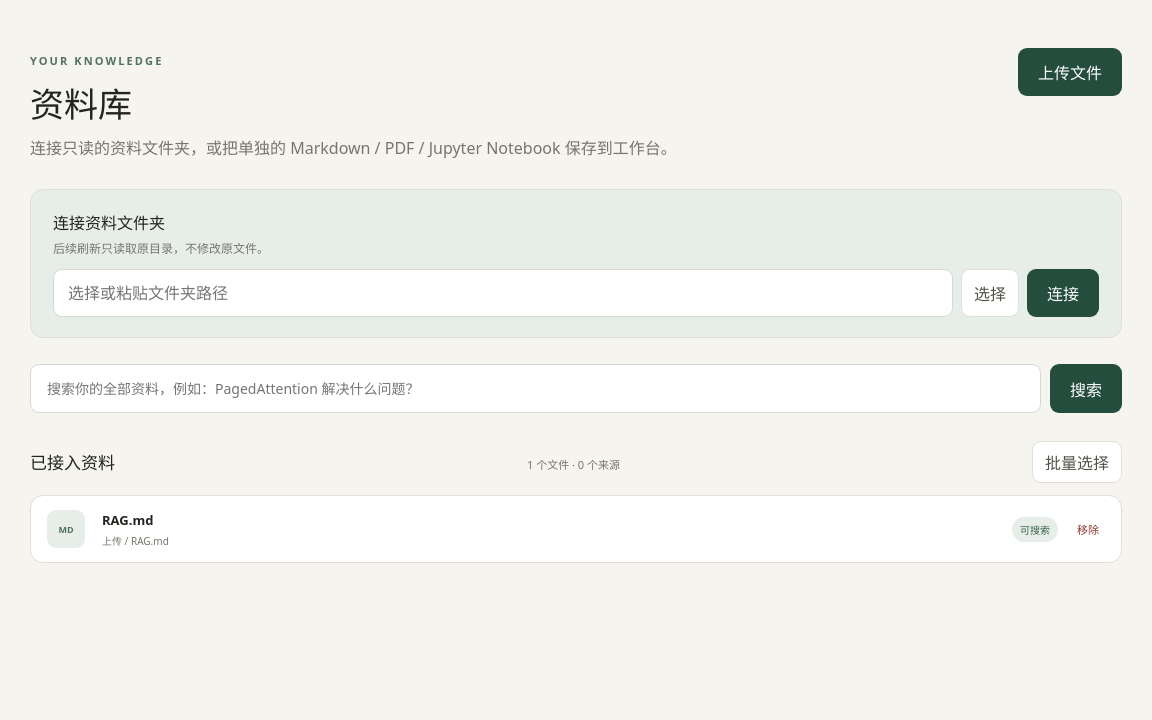
it: LibraryPage 的批量移除 › 勾选上传来源的资料时，确认框不提「暂时移除」这句
Click the button "批量选择" at (1077, 462), box [1032,441,1122,483]
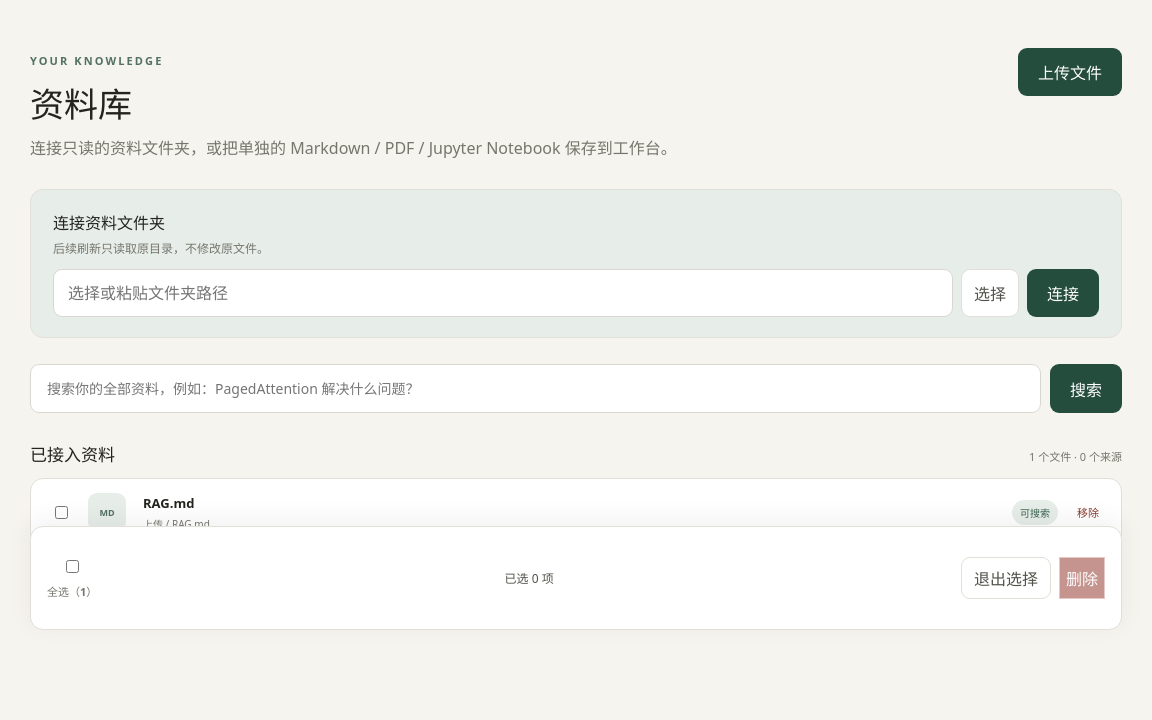
Click the 1st checkbox at (62, 512), box [55,506,68,518]
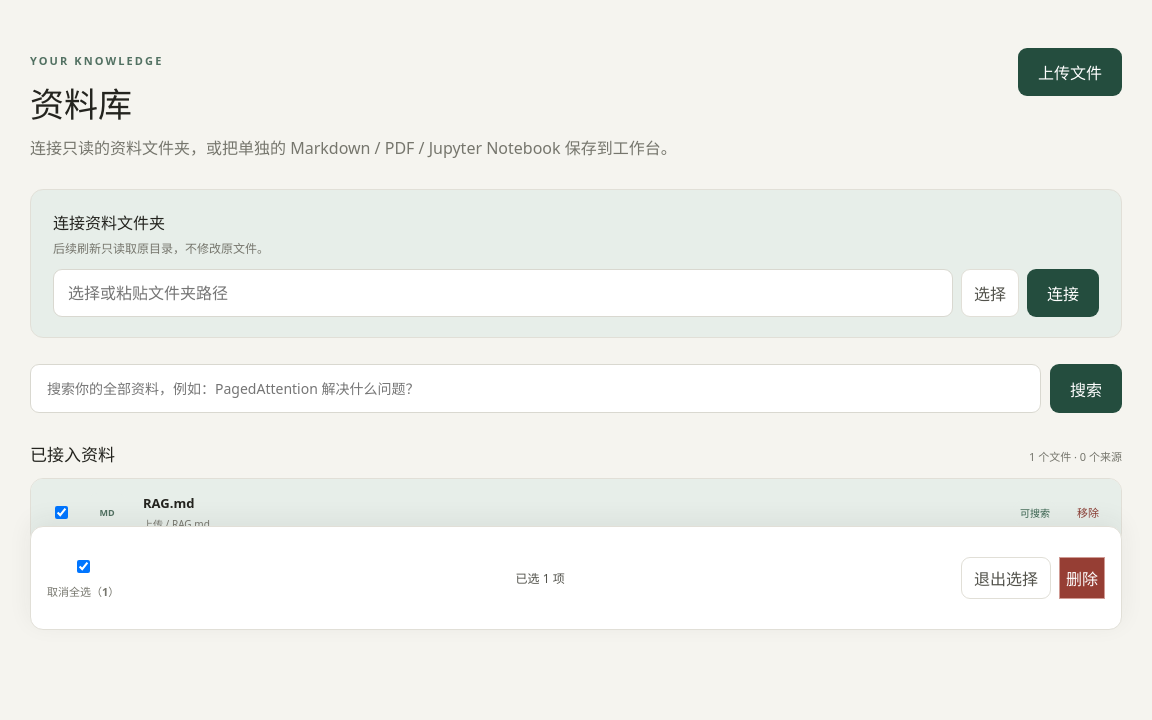
Expected: the text "已选 1 项" is shown, [516,569,565,587]
Click the button "删除" at (1082, 578), box [1059,557,1105,599]
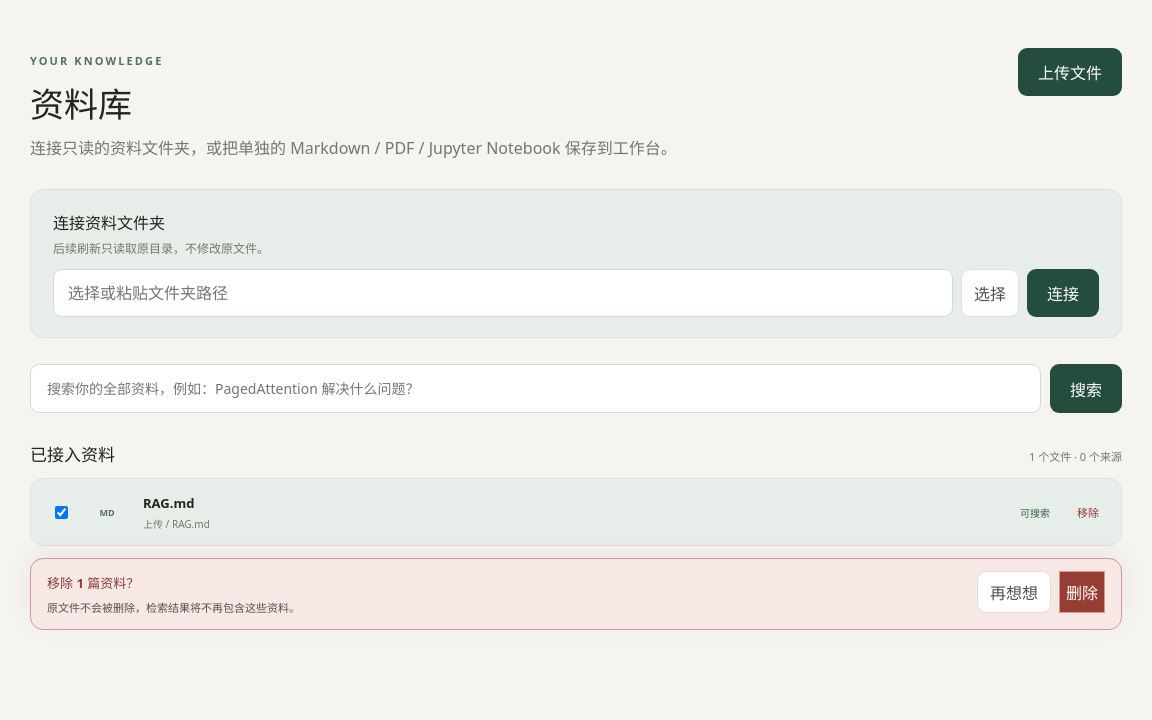
Expected: the text "移除 1 篇资料？" is shown, [47,574,139,592]
